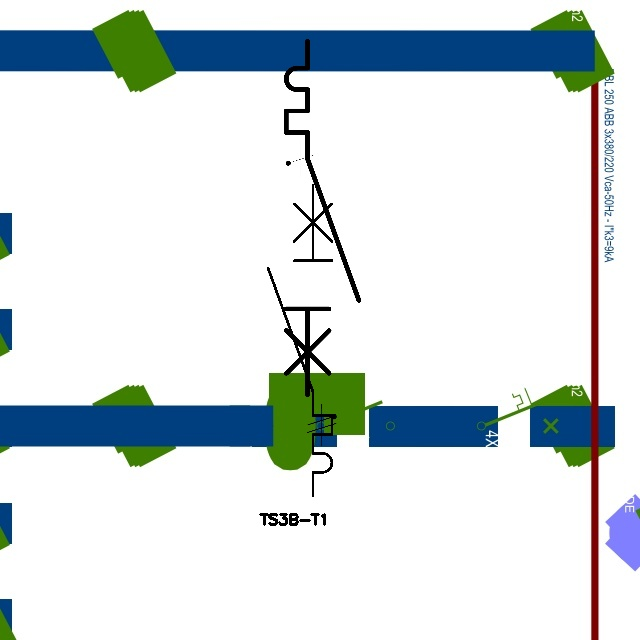interruptor_termomagnetico: (277, 32, 368, 404), (260, 176, 340, 503)
